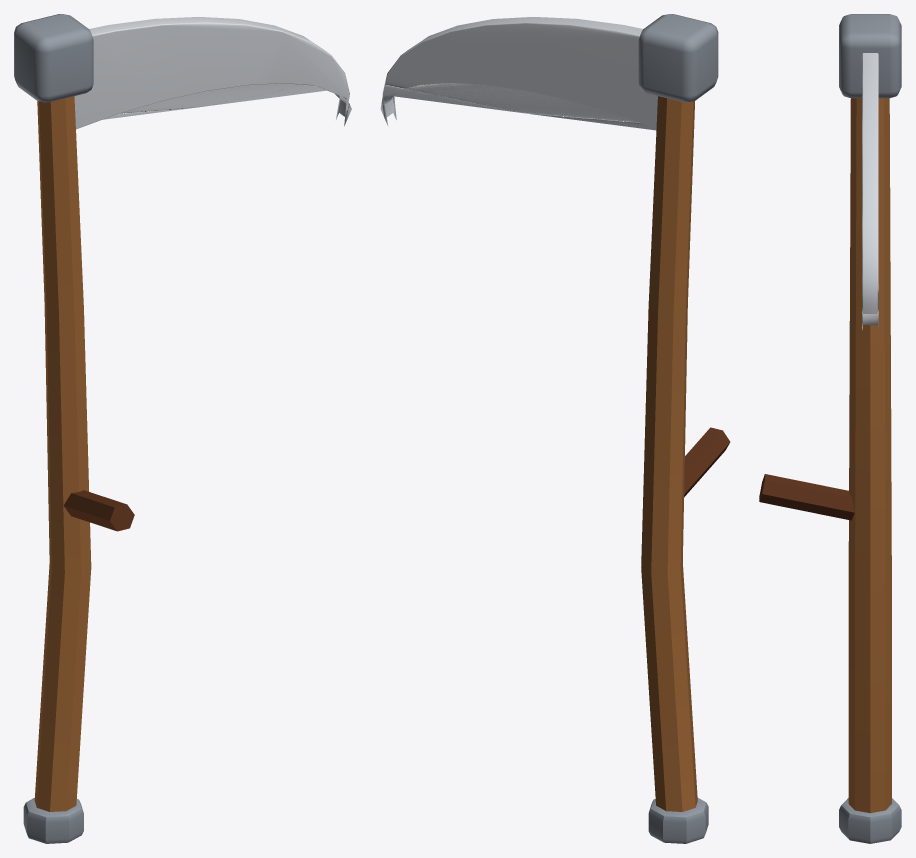
The model's file is IronScythe.fbx.
The picture shows the model from 3 angles, left to right: view 1: azimuth 30°, elevation 25°; view 2: azimuth 150°, elevation 25°; view 3: azimuth 270°, elevation 25°; orthographic projection.
Visible parts, largest first — view 1: IronScythe; view 2: IronScythe; view 3: IronScythe.
Part boxes in pixels (x1,y1,x2,y2): IronScythe: (14,14,351,843); IronScythe: (380,14,730,843); IronScythe: (759,14,901,843).
Size of the model in its own units: 1.56 by 3.72 by 0.5913.
1 material, 1 textured.
